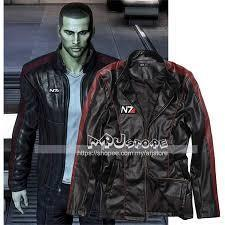jacket: (71, 50, 219, 219), (8, 45, 105, 191)
